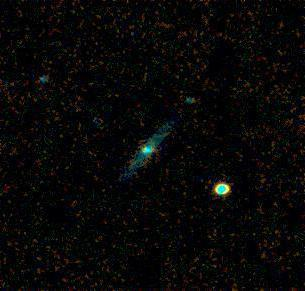star: (179, 84, 209, 114)
